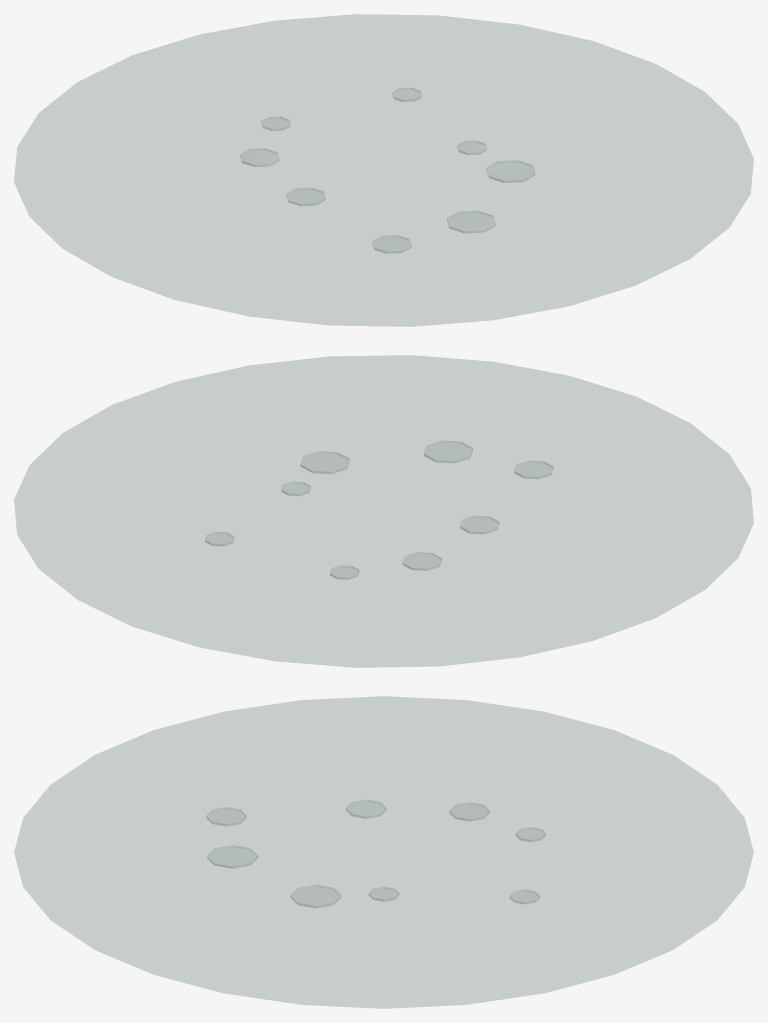
File: mat_nuoc.glb
3 views of the same model, one above another, from view 1: azimuth 30°, elevation 25°; view 2: azimuth 150°, elevation 25°; view 3: azimuth 270°, elevation 25° (orthographic).
Visible parts, largest first — view 1: mat_nuoc; view 2: mat_nuoc; view 3: mat_nuoc.
Part boxes in pixels (x1,y1,x2,y2): mat_nuoc: (14,14,753,326); mat_nuoc: (14,355,753,667); mat_nuoc: (14,696,753,1008).
Bounding box in the file's own units: 0.584 × 0.002 × 0.584.
